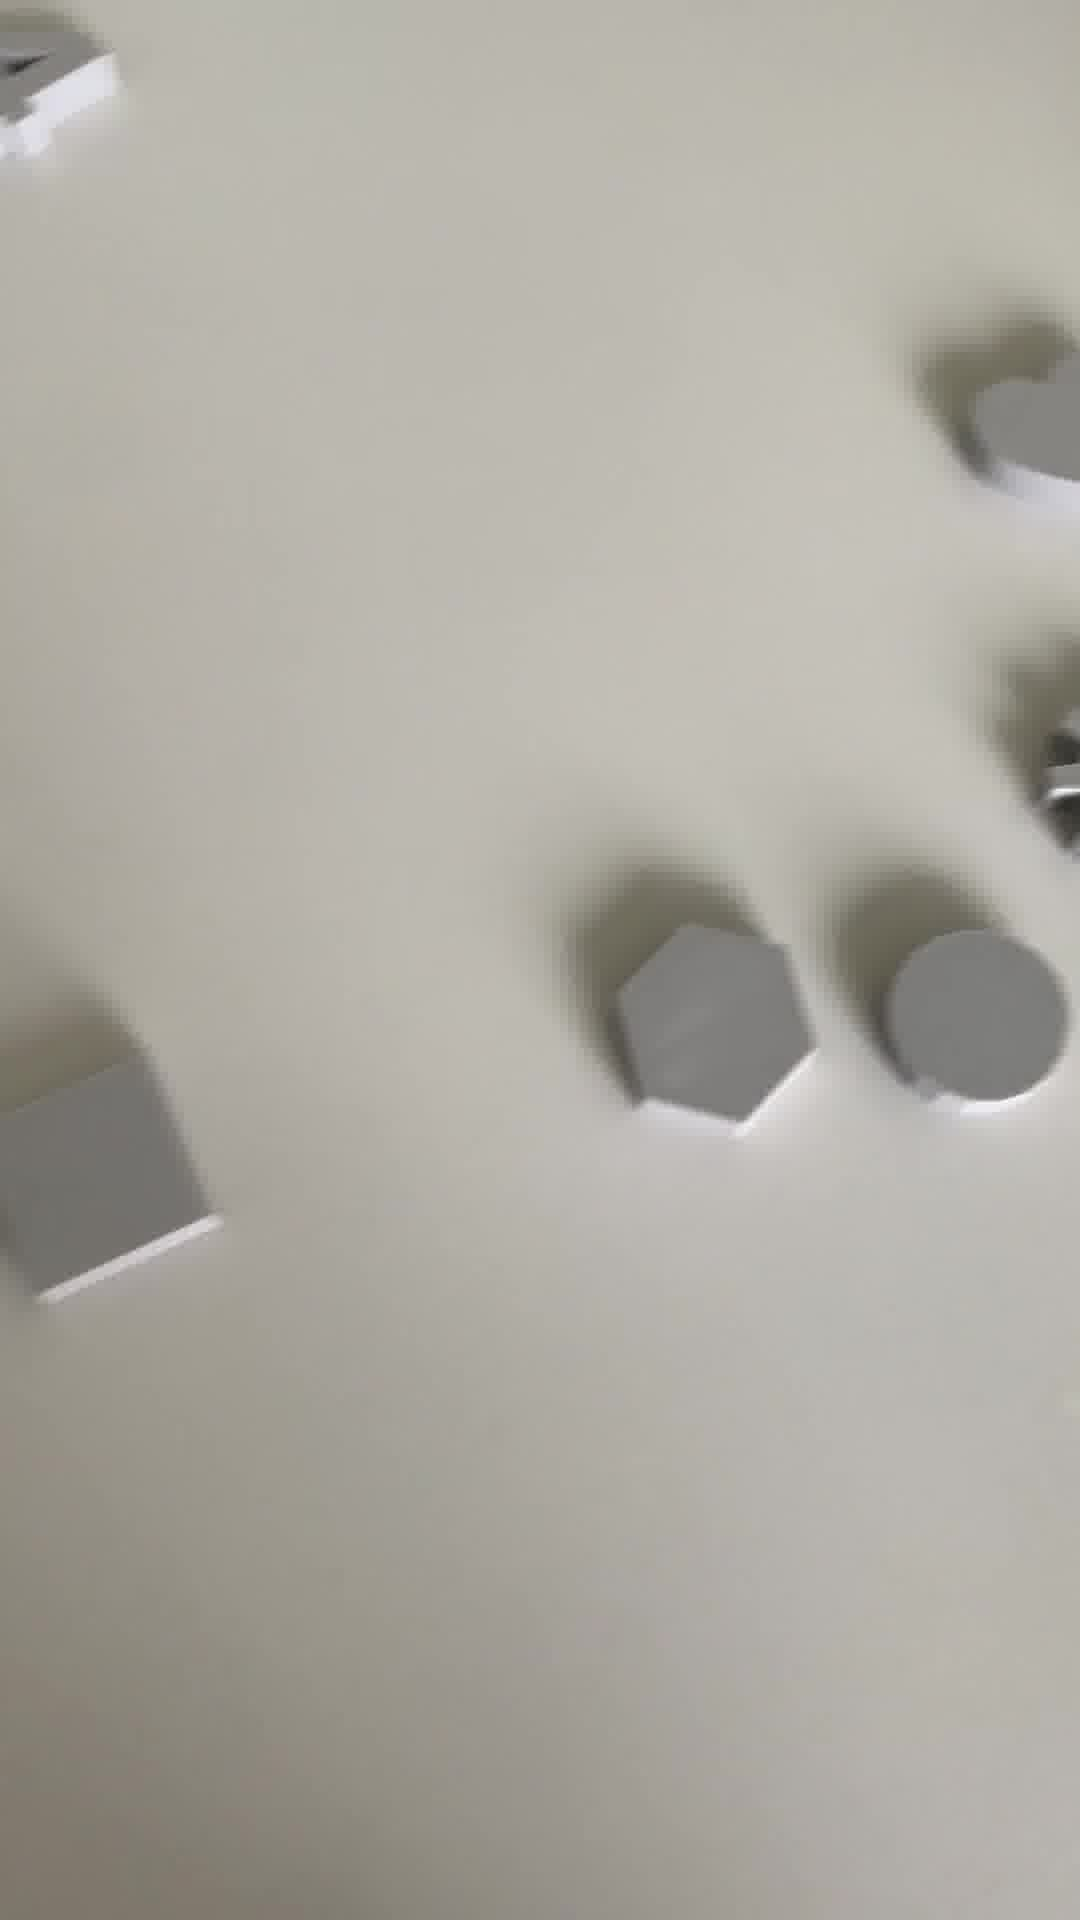Gray circle: (886, 928, 1058, 1122)
Gray four: (1, 16, 141, 177)
Gray gear: (1026, 702, 1080, 869)
Gray heart: (943, 345, 1080, 516)
Gray hexagon: (601, 926, 811, 1139)
Gray square: (1, 1040, 208, 1298)
